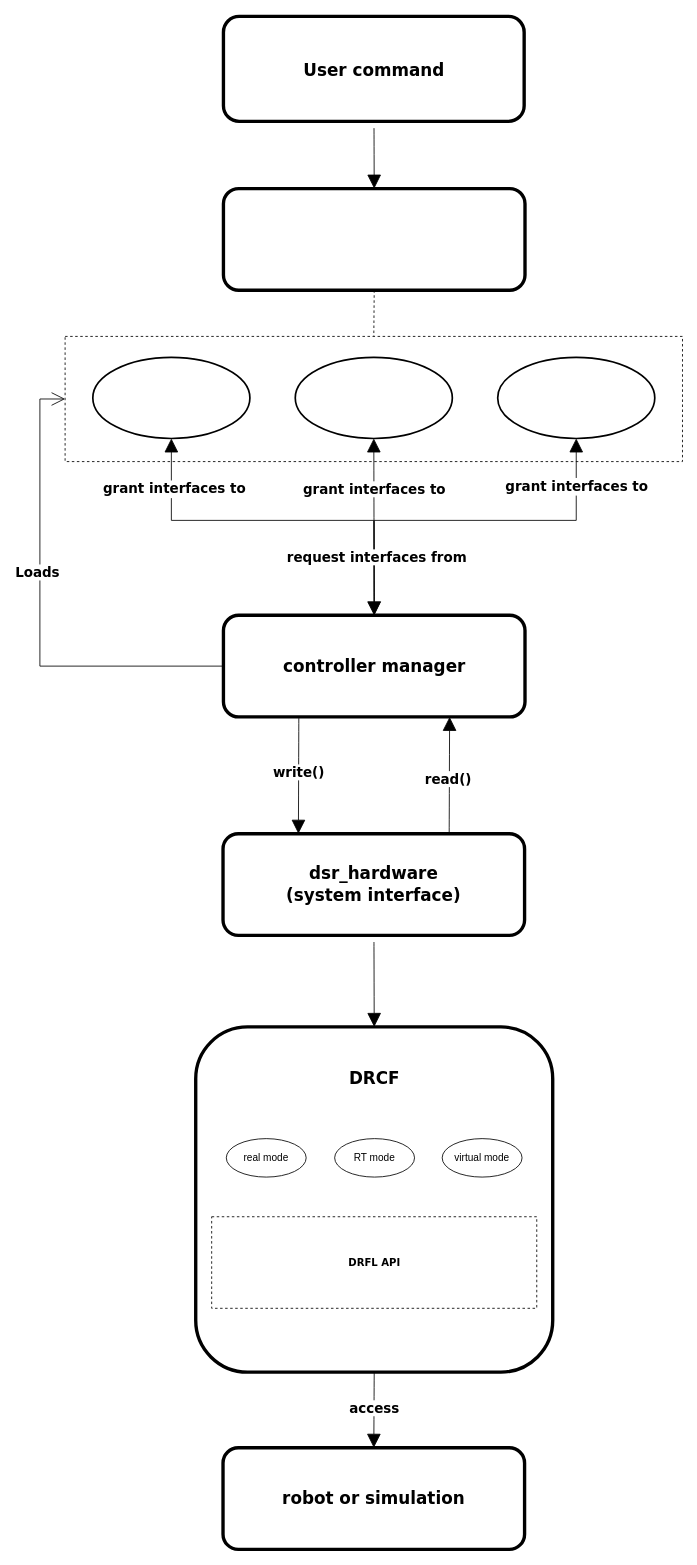
The diagram is 697 pixels wide and 1565 high, and some of its shapes have lost their labels. Here are the shapes that lost their labels. From the top down, the box of each, then its label:
(221, 186, 526, 291): dsr_controllers
(92, 356, 250, 439): Controller1
(294, 356, 453, 439): Controller2
(496, 356, 655, 439): Controller3
